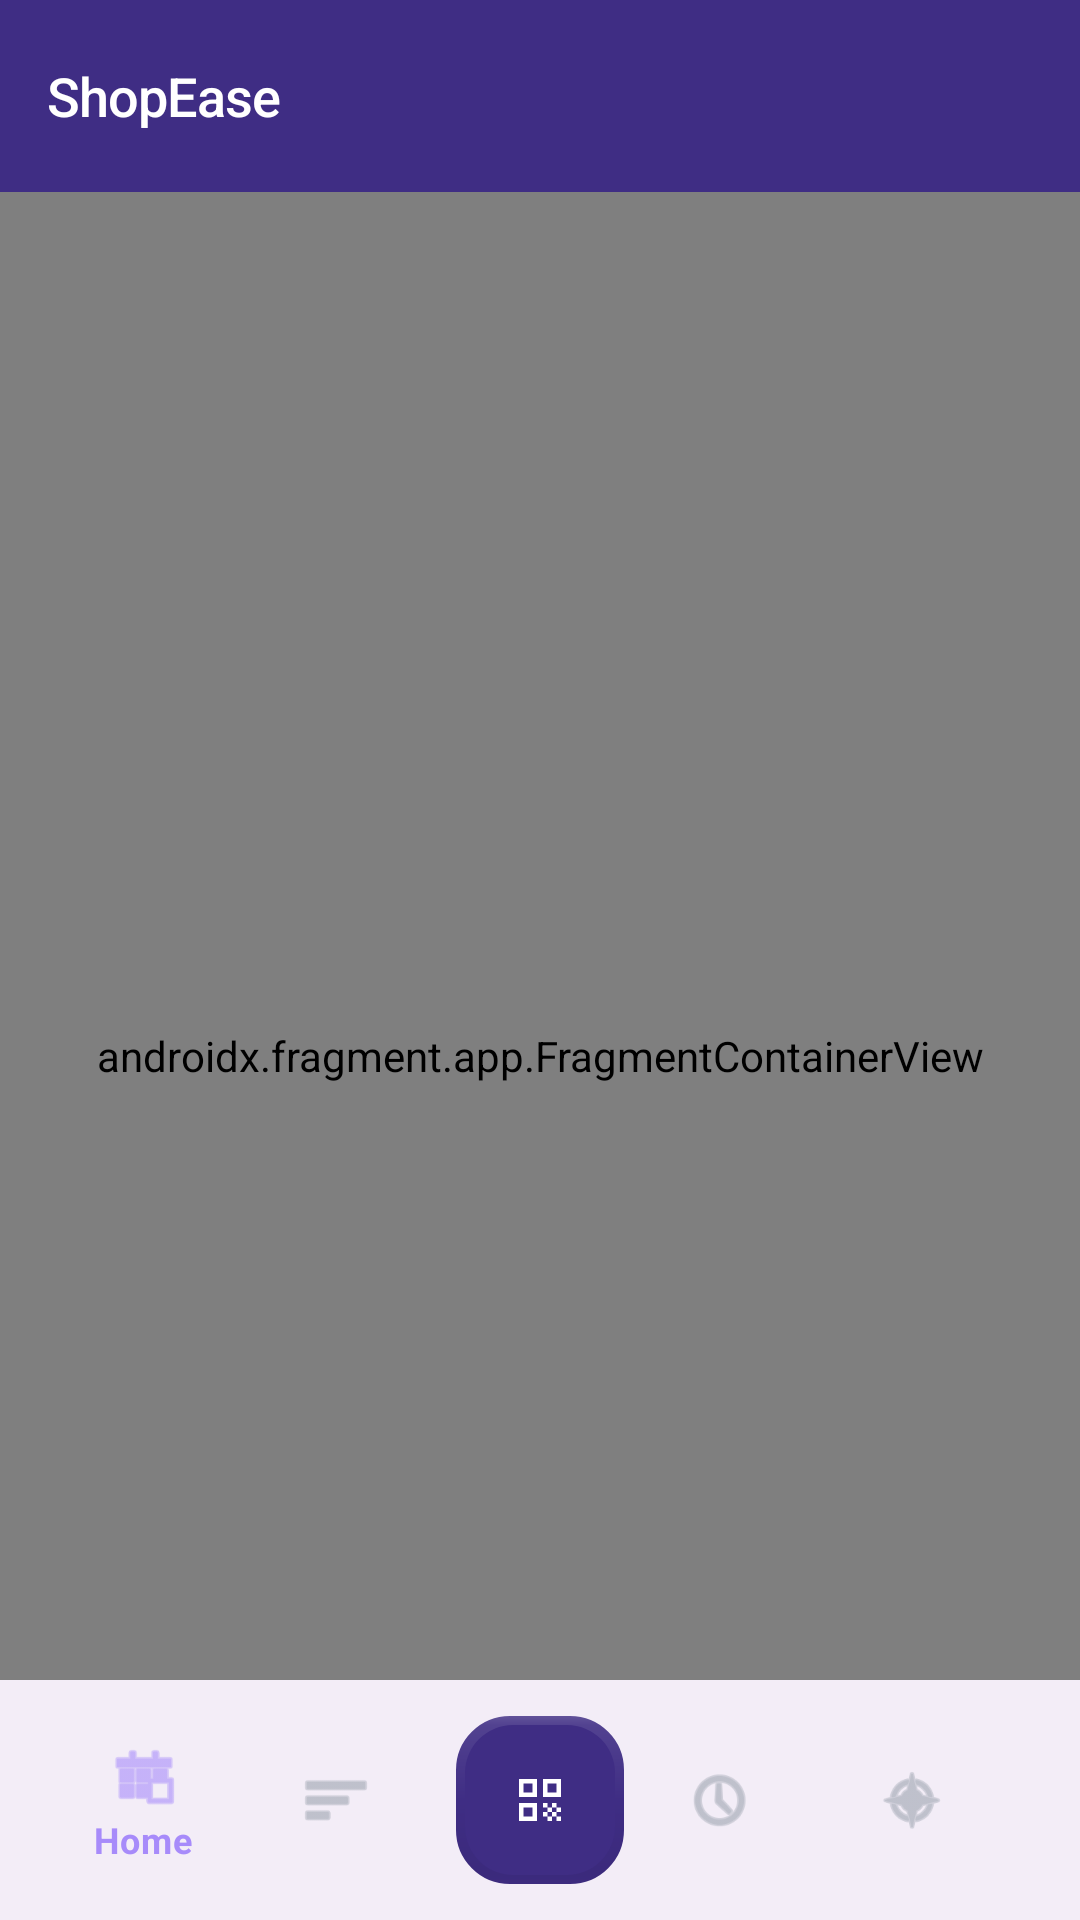

Named icons in this screenshot (1080 × 1920) and their bounding boxes, (x1, y1, x2, y2):
Scan Product: (456, 1752, 624, 1884)
